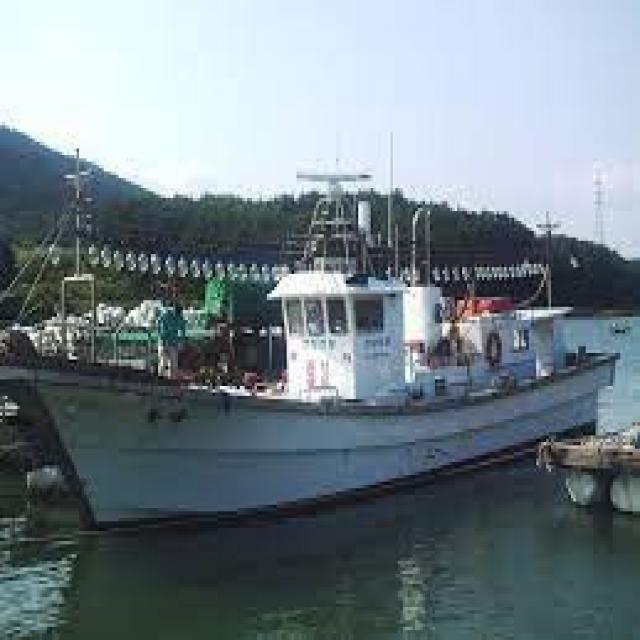Ship: (1, 146, 624, 545)
